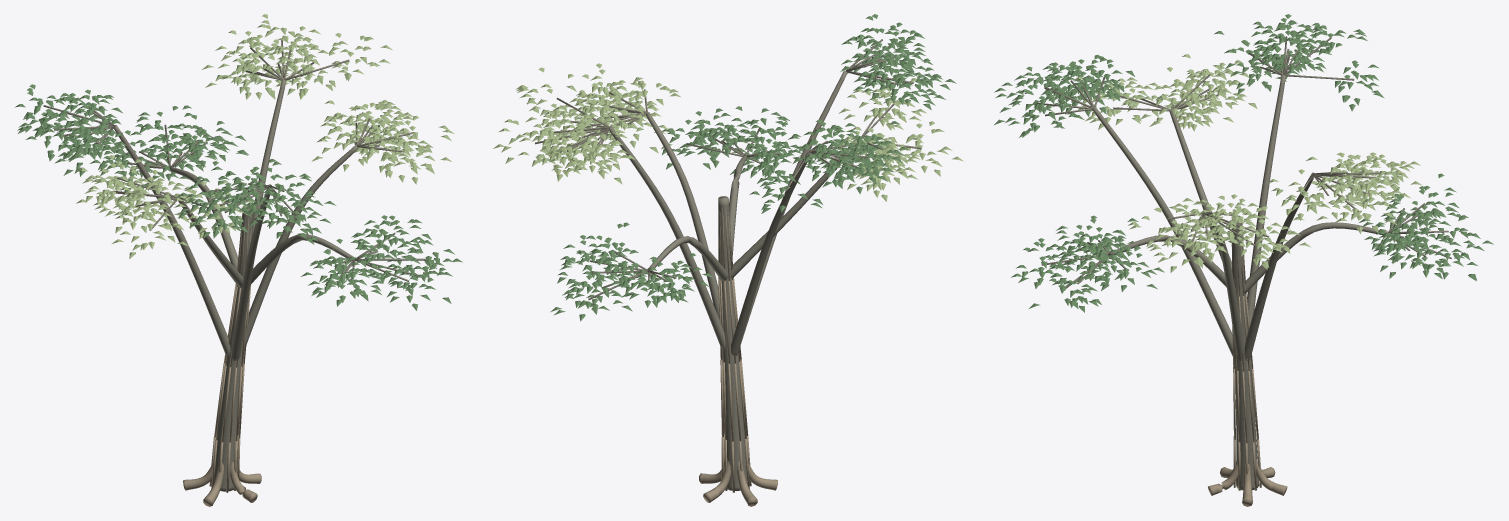
The model's file is grove-grove-tree-3.glb.
3 views of the same model, side by side, from view 1: azimuth 30°, elevation 25°; view 2: azimuth 150°, elevation 25°; view 3: azimuth 270°, elevation 25° (orthographic).
Visible parts, largest first — view 1: grove-grove-tree-3; view 2: grove-grove-tree-3; view 3: grove-grove-tree-3.
Boxes of the visible parts, x1,y1,x2,y2 form: grove-grove-tree-3: (15, 14, 462, 506); grove-grove-tree-3: (493, 14, 963, 506); grove-grove-tree-3: (994, 14, 1493, 506).
Bounding box in the file's own units: 8.22 × 8.46 × 9.49.
